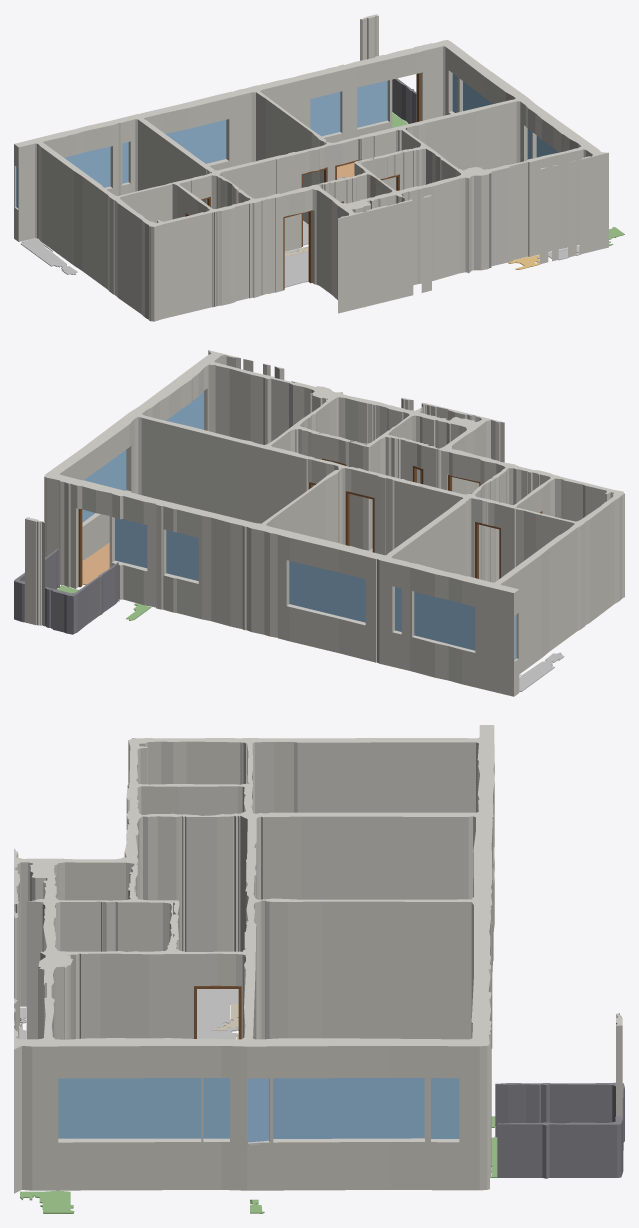
3 renders of one model, top to bottom at view 1: azimuth 30°, elevation 25°; view 2: azimuth 150°, elevation 25°; view 3: azimuth 270°, elevation 25°, orthographic. The views are drawn at different scales.
Parts seen in each view (by area): view 1: walls, window_11, window_14, window_13, window_9, railings, floor_30_Undefined, floor_14_Bed_Room, door_7, window_17; view 2: walls, railings, window_11, window_9, window_13, window_14, window_17, floor_8_Living_Room, window_20, floor_14_Bed_Room, door_1; view 3: walls, railings, window_17, window_20, floor_30_Undefined, window_15, window_19, window_18, floor_0_Outdoor.
Boxes of the visible parts, bbox=[...] form: walls: bbox=[14, 14, 608, 321]; window_11: bbox=[165, 120, 226, 163]; window_14: bbox=[357, 80, 387, 127]; window_13: bbox=[310, 92, 340, 136]; window_9: bbox=[65, 146, 110, 187]; railings: bbox=[392, 78, 416, 123]; floor_30_Undefined: bbox=[284, 246, 308, 287]; floor_14_Bed_Room: bbox=[21, 238, 77, 274]; door_7: bbox=[283, 210, 312, 290]; window_17: bbox=[463, 81, 492, 110]; walls: bbox=[25, 350, 624, 696]; railings: bbox=[14, 548, 118, 634]; window_11: bbox=[289, 561, 365, 622]; window_9: bbox=[414, 591, 475, 650]; window_13: bbox=[166, 530, 198, 580]; window_14: bbox=[115, 518, 147, 568]; window_17: bbox=[82, 450, 126, 522]; floor_8_Living_Room: bbox=[82, 542, 109, 585]; window_20: bbox=[166, 391, 203, 429]; floor_14_Bed_Room: bbox=[519, 652, 564, 691]; door_1: bbox=[345, 491, 374, 552]; walls: bbox=[14, 725, 622, 1193]; railings: bbox=[495, 1082, 624, 1178]; window_17: bbox=[273, 1078, 424, 1138]; window_20: bbox=[58, 1078, 201, 1138]; floor_30_Undefined: bbox=[197, 989, 238, 1039]; window_15: bbox=[431, 1078, 459, 1138]; window_19: bbox=[203, 1078, 229, 1138]; window_18: bbox=[247, 1078, 268, 1142]; floor_0_Outdoor: bbox=[20, 1190, 74, 1213].
Bounding box in the file's own units: 13.81 × 2.72 × 10.38.
